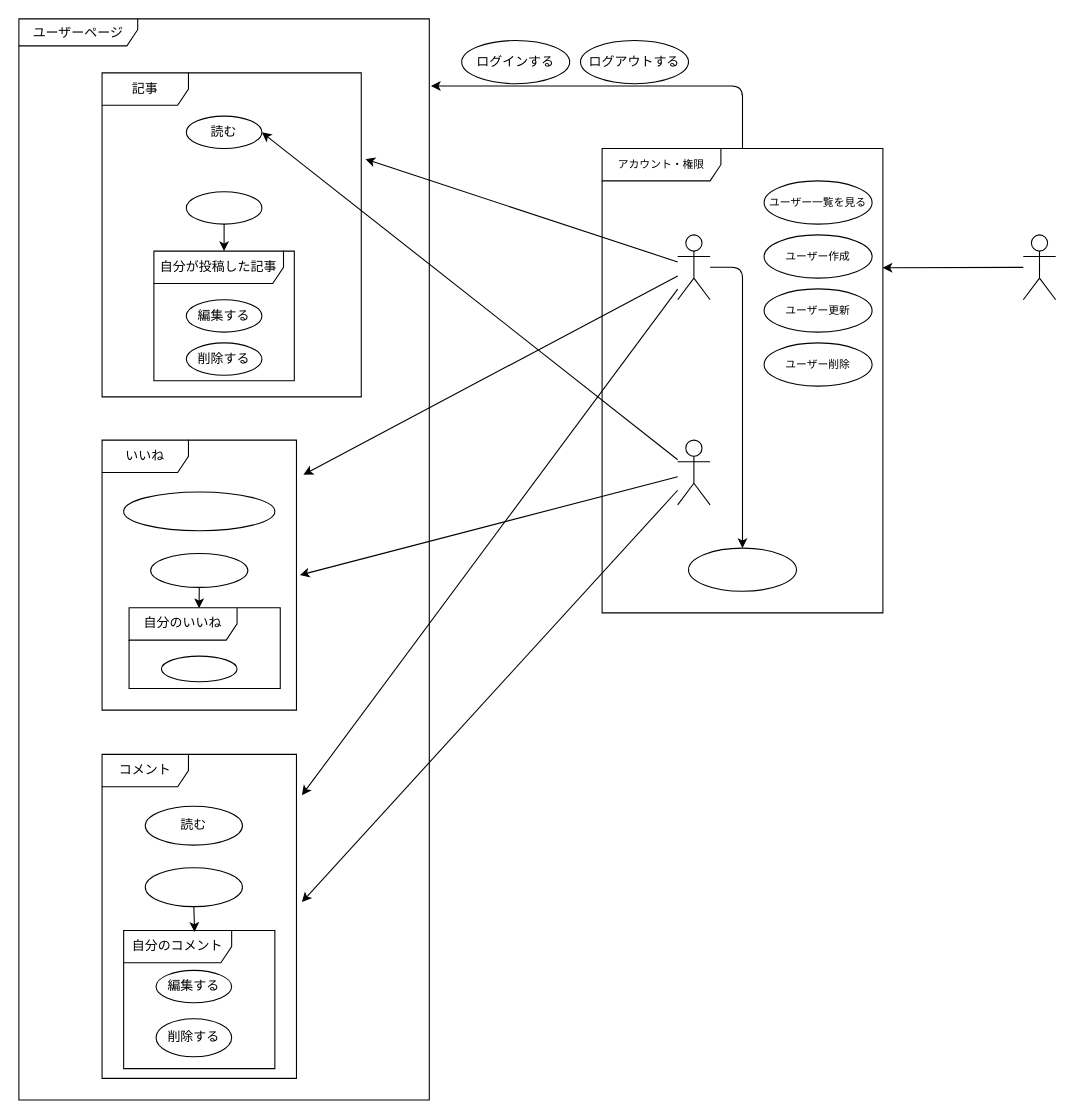
Some shapes in this 1077 by 1119 pixel diagram are drawn without their labels. Each missing label, with the centre of its shape:
Admin: the point at 1039,267
Facility Staff: the point at 693,267
Facility User: the point at 693,472
Facility userの 担当をする: the point at 741,569
いいねする: the point at 199,569
コメントする: the point at 193,887
取り消す: the point at 198,668
投稿する: the point at 223,207
記事のいいね数を見る: the point at 199,511
